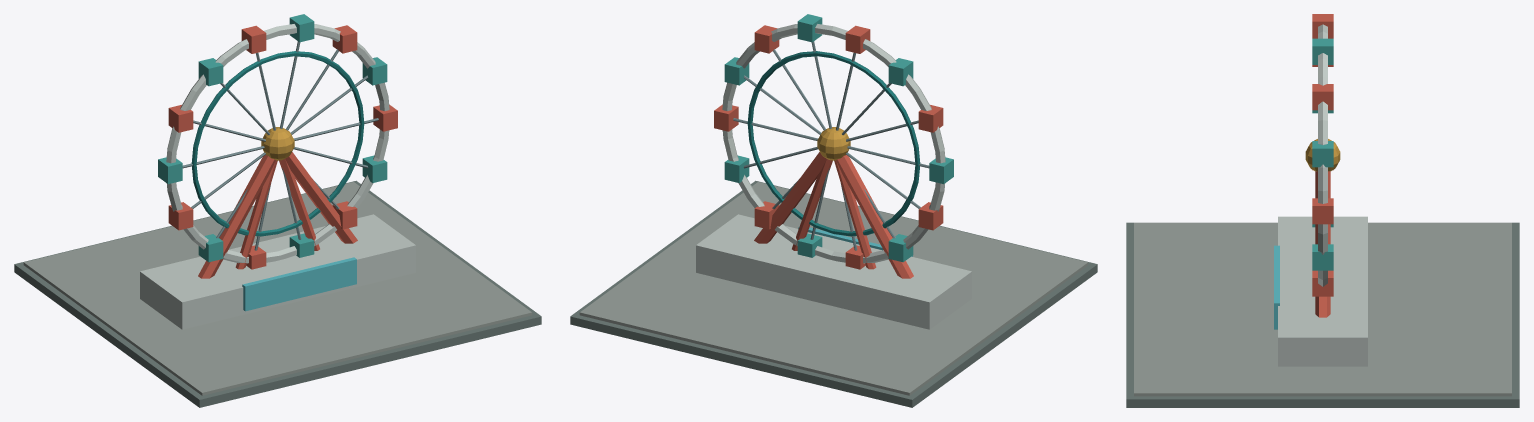
File: ferris_wheel_lv1.glb
3 views of the same model, side by side, from view 1: azimuth 30°, elevation 25°; view 2: azimuth 150°, elevation 25°; view 3: azimuth 270°, elevation 25° (orthographic). The views are drawn at different scales.
Visible parts, largest first — view 1: rough, metallic, glossy; view 2: rough, metallic; view 3: rough, glossy.
Part boxes in pixels (x1,y1,x2,y2): rough: [14, 14, 541, 407]; metallic: [182, 41, 378, 250]; glossy: [242, 257, 356, 311]; rough: [570, 14, 1097, 407]; metallic: [733, 41, 929, 250]; rough: [1126, 14, 1519, 407]; glossy: [1274, 245, 1279, 329].
Size of the model in its own units: 9.8 by 7.47 by 9.2.
